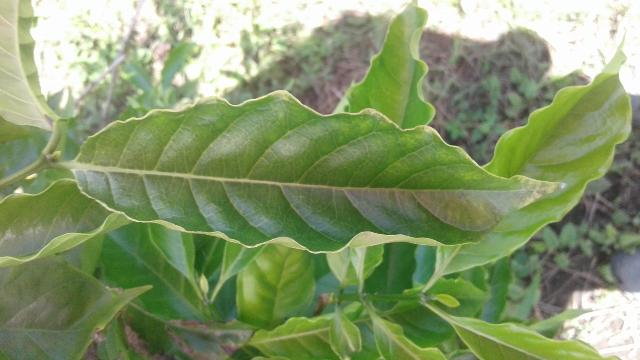rust_level_1: (72, 86, 577, 252)
